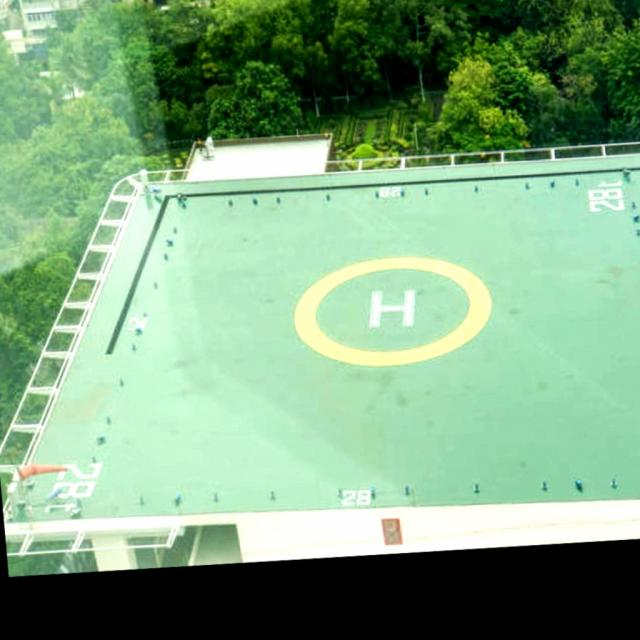helipad: (289, 250, 495, 369)
